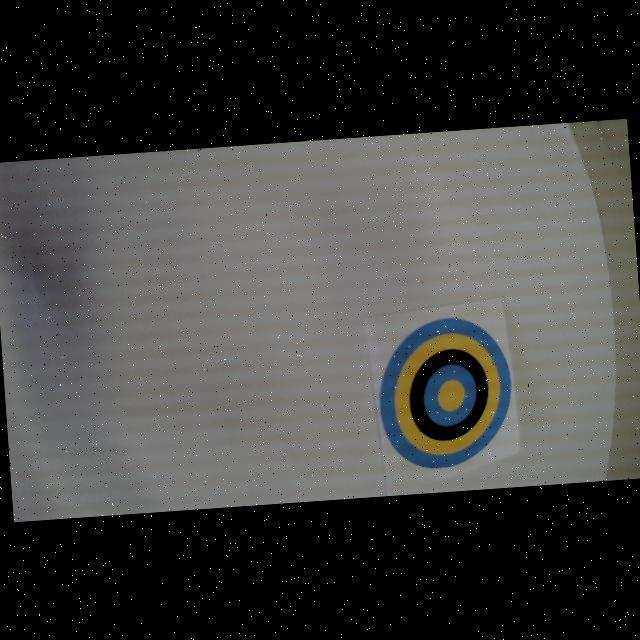COGNITIVE: (374, 312, 516, 472)
